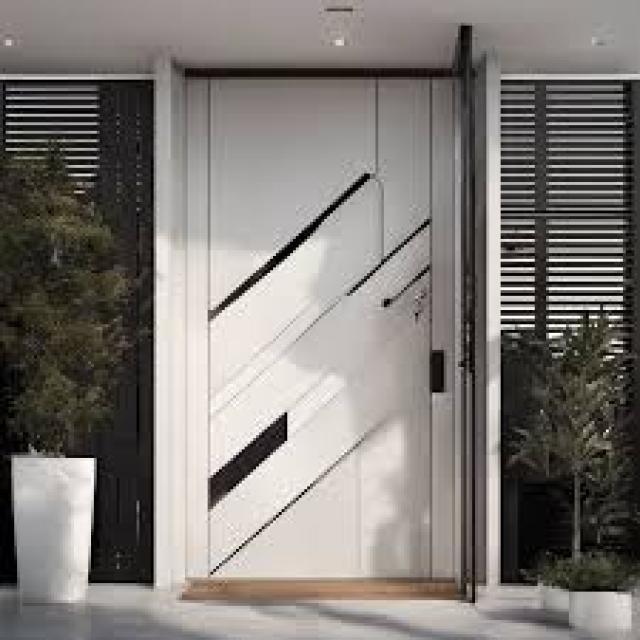door: (185, 70, 466, 596)
